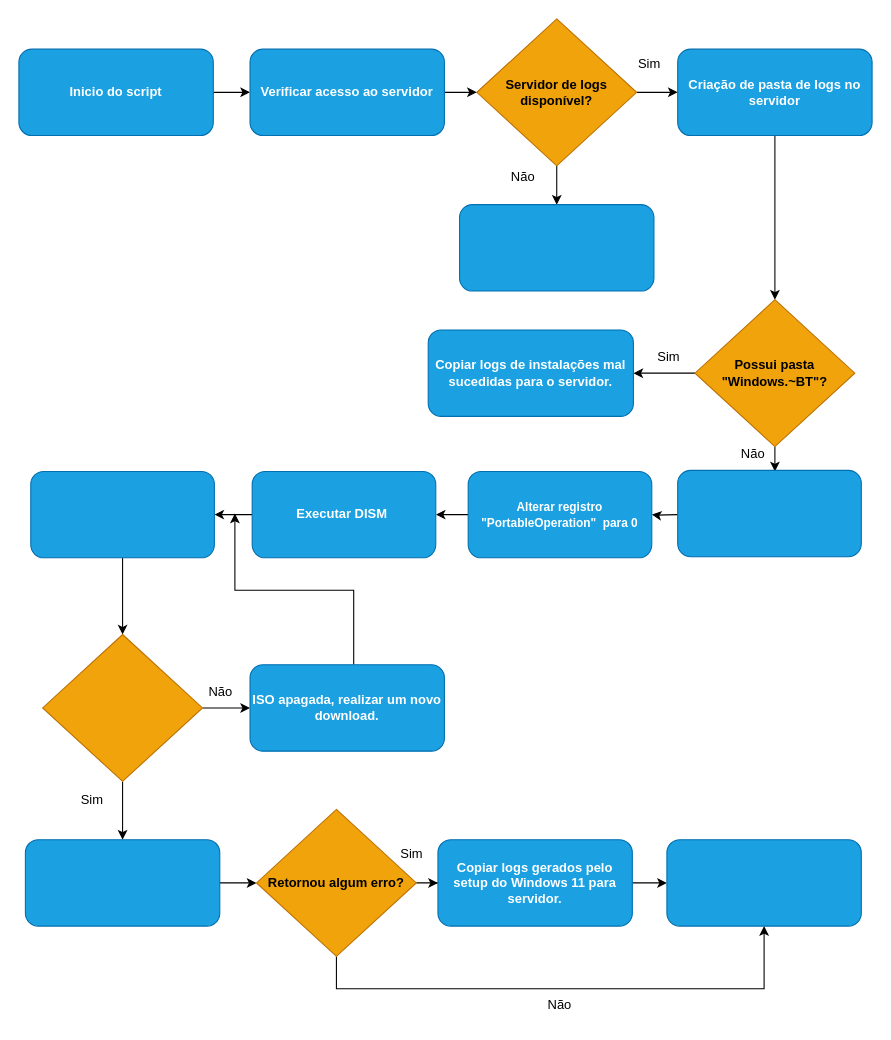
Some shapes in this 891 by 1040 pixel diagram are drawn without their labels. The shapes that lost their labels are listed below. From the top down, each one's centre as x and y in pixels, then its label:
(556,247): Salvar logs em pastais locais.
(122,514): Realizar download ISO
(769,513): Apagar pastas residuais de instalações mal sucedidas.
(122,707): ISO com hash válida?
(122,882): Iniciar setup do Windows 11
(763,882): Fim do script.
